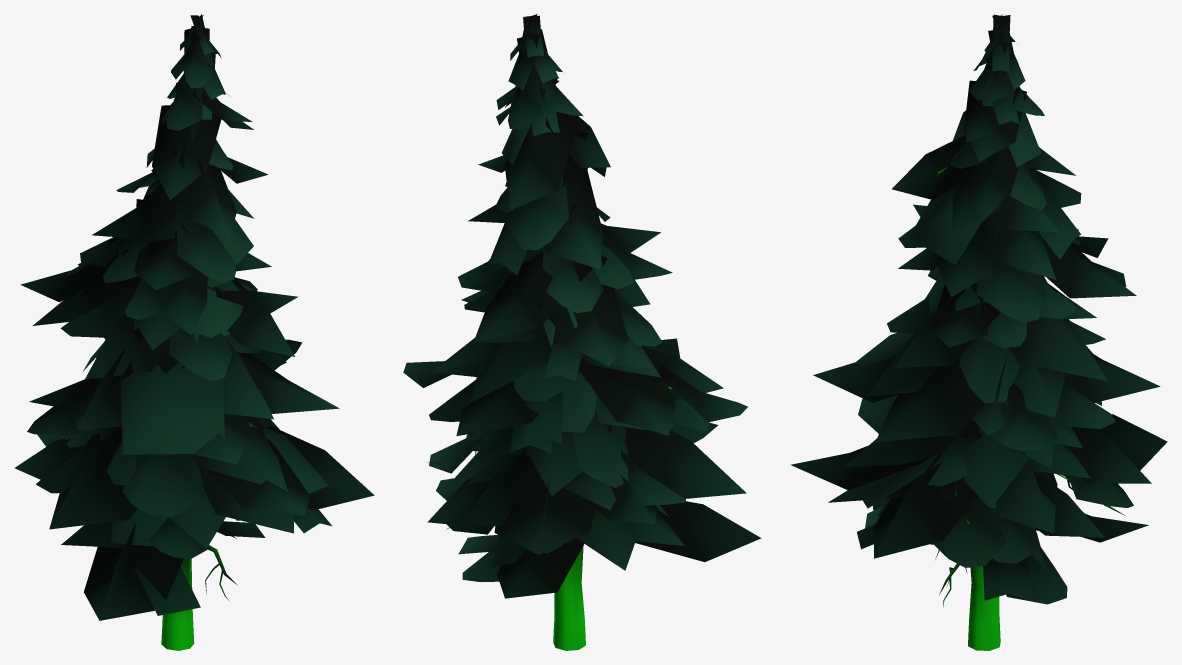
Rendered from SM_Pine01.fbx.
3 views of the same model, side by side, from view 1: azimuth 30°, elevation 25°; view 2: azimuth 150°, elevation 25°; view 3: azimuth 270°, elevation 25° (orthographic). The views are drawn at different scales.
Visible parts, largest first — view 1: SM_Pine01_LOD0; view 2: SM_Pine01_LOD0; view 3: SM_Pine01_LOD0.
Boxes of the visible parts, box(x1,y1,x2,y2) form: SM_Pine01_LOD0: box(14, 14, 374, 650); SM_Pine01_LOD0: box(403, 14, 761, 650); SM_Pine01_LOD0: box(790, 14, 1167, 650).
Size of the model in its own units: 822 by 1585 by 843.
